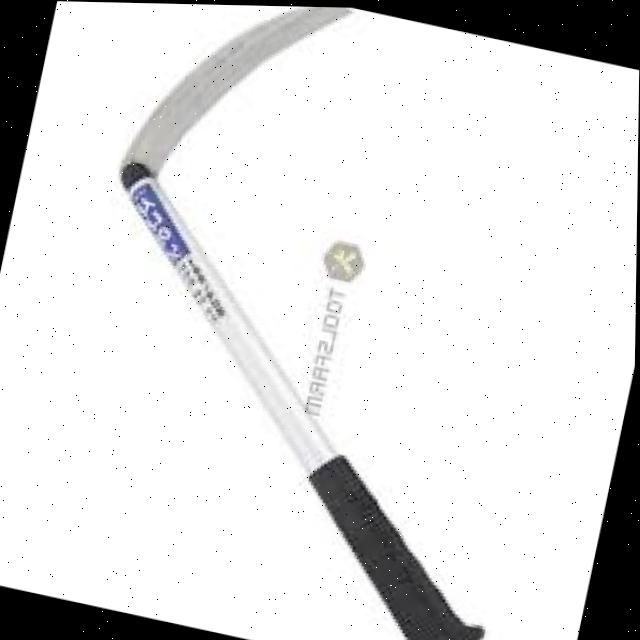sickle: (29, 1, 633, 640)
